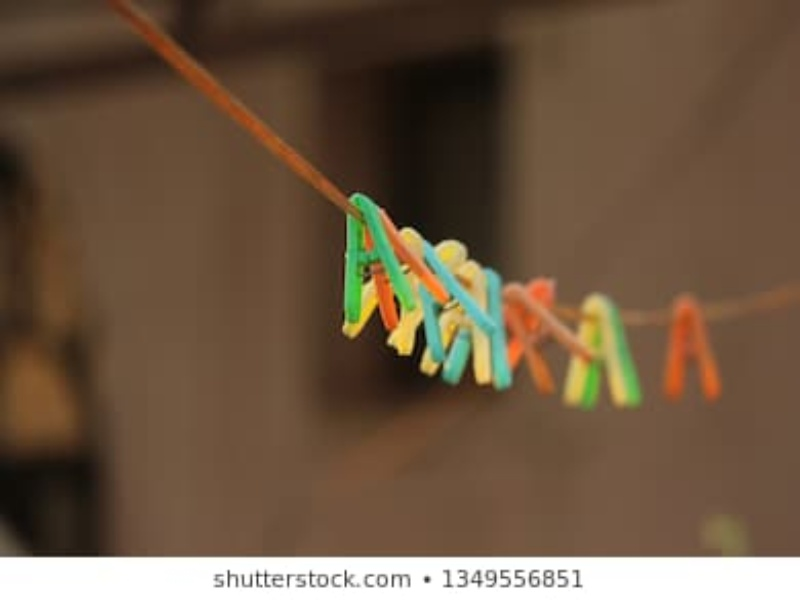plastic-peg: (398, 231, 497, 367), (333, 185, 413, 337), (493, 280, 597, 393), (562, 292, 643, 423), (663, 287, 730, 424), (377, 200, 425, 331)
